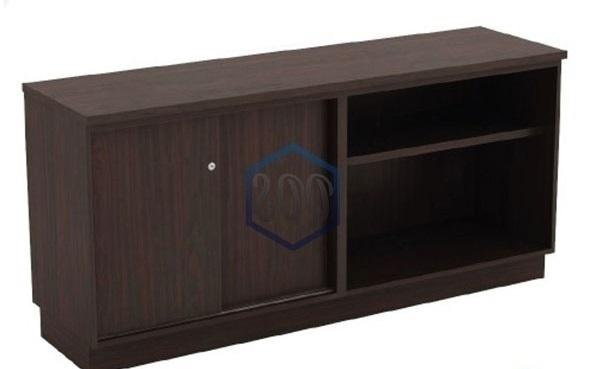cabinet_door: (93, 120, 220, 314), (219, 108, 335, 296)
handle: (203, 159, 219, 177)
